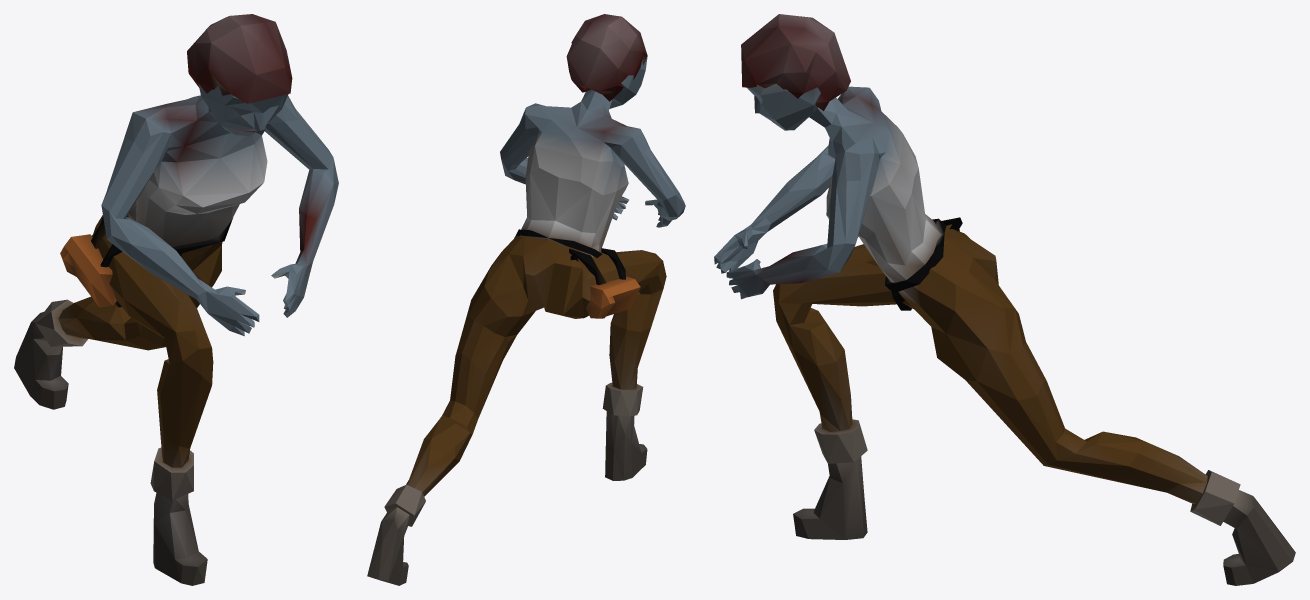
File: TyvaVFXModel.fbx
The picture shows the model from 3 angles, left to right: view 1: azimuth 30°, elevation 25°; view 2: azimuth 150°, elevation 25°; view 3: azimuth 270°, elevation 25°; orthographic projection. The views are drawn at different scales.
Visible parts, largest first — view 1: Tyva; view 2: Tyva; view 3: Tyva.
Boxes of the visible parts, <box> form: Tyva: <box>14,14,338,585</box>; Tyva: <box>367,14,685,585</box>; Tyva: <box>714,14,1295,585</box>.
Size of the model in its own units: 53.27 by 125 by 122.
